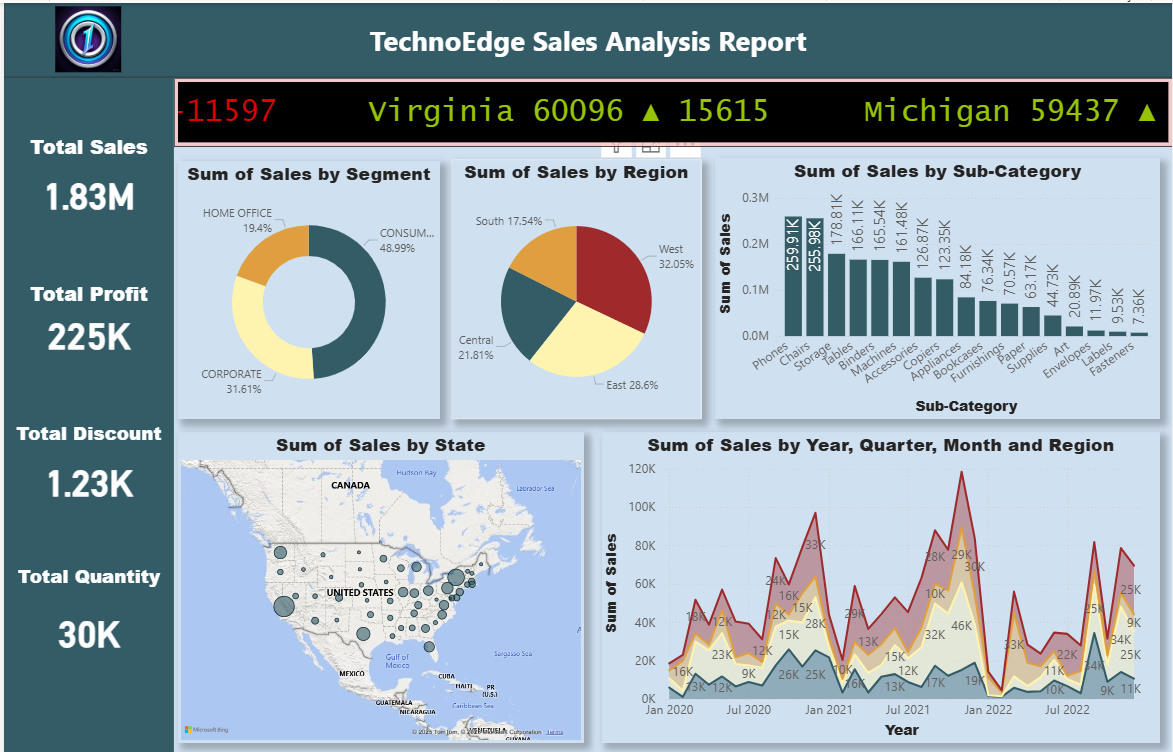

The page's visual inventory and layout, read from the dashboard file:
{"tool":"powerbi","page":{"name":"Page 1","canvas":[1700,1100],"ordinal":0},"visuals":[{"type":"shape","box":[0,0,1700.6,109.1],"z":0},{"type":"shape","box":[0,109.1,247.4,991.2],"z":1000},{"type":"card","title":"Total Sales","fields":{"Values":["Sum(CombinedData.Sales)"]},"box":[12.7,189.2,221.9,131],"z":2000},{"type":"card","title":"Total Quantity","fields":{"Values":["Sum(CombinedData.Quantity)"]},"box":[12.7,814.8,221.9,158.2],"z":3000},{"type":"card","title":"Total Discount","fields":{"Values":["Sum(CombinedData.Discount)"]},"box":[12.7,605.7,221.9,138.2],"z":4000},{"type":"card","title":"Total Profit","fields":{"Values":["Sum(CombinedData.Profit)"]},"box":[12.7,402,221.9,114.6],"z":5000},{"type":"stackedAreaChart","fields":{"Category":["CombinedData.Order Date.Variation.Date Hierarchy.Year","CombinedData.Order Date.Variation.Date Hierarchy.Quarter","CombinedData.Order Date.Variation.Date Hierarchy.Month"],"Y":["Sum(CombinedData.Sales)"],"Series":["CombinedData.Region"]},"box":[869.4,623.8,813,452.9],"z":6000},{"type":"map","fields":{"Category":["CombinedData.State"],"Size":["Sum(CombinedData.Sales)"]},"box":[252.8,623.8,591.1,452.9],"z":7000},{"type":"columnChart","fields":{"Category":["CombinedData.Sub-Category"],"Y":["Sum(CombinedData.Sales)"]},"box":[1034.9,225.5,647.5,380.1],"z":8000},{"type":"pieChart","fields":{"Category":["CombinedData.Region"],"Y":["Sum(CombinedData.Sales)"]},"box":[651.1,227.3,363.8,378.3],"z":9000},{"type":"donutChart","fields":{"Category":["CombinedData.Segment"],"Y":["Sum(CombinedData.Sales)"]},"box":[252.8,229.2,381.9,376.5],"z":10000},{"type":"ScrollingTextVisual1448795304508","fields":{"Category":["CombinedData.State"],"Measure Absolute":["Sum(CombinedData.Sales)"],"Measure Deviation":["Sum(CombinedData.Profit)"]},"box":[247.4,109.1,1453.2,100],"z":11000},{"type":"image","box":[54.6,0,136.4,105.5],"z":14500}]}

Visuals, with their boxes in screenshot pixels (x1, y1, x2, y2), scaled from the page's 1700x1100 canvas onto the 1173x752 screenshot:
shape: select_region(0, 0, 1172, 75)
shape: select_region(0, 75, 171, 751)
"Total Sales" card: select_region(9, 129, 162, 219)
"Total Quantity" card: select_region(9, 557, 162, 665)
"Total Discount" card: select_region(9, 414, 162, 509)
"Total Profit" card: select_region(9, 275, 162, 353)
stackedAreaChart - CombinedData.Order Date.Variation.Date Hierarchy.Year x CombinedData.Order Date.Variation.Date Hierarchy.Quarter: select_region(600, 426, 1161, 736)
map - CombinedData.State x Sum(CombinedData.Sales): select_region(174, 426, 582, 736)
columnChart - CombinedData.Sub-Category x Sum(CombinedData.Sales): select_region(714, 154, 1161, 414)
pieChart - CombinedData.Region x Sum(CombinedData.Sales): select_region(449, 155, 700, 414)
donutChart - CombinedData.Segment x Sum(CombinedData.Sales): select_region(174, 157, 438, 414)
ScrollingTextVisual1448795304508 - CombinedData.State x Sum(CombinedData.Sales): select_region(171, 75, 1172, 143)
image: select_region(38, 0, 132, 72)
